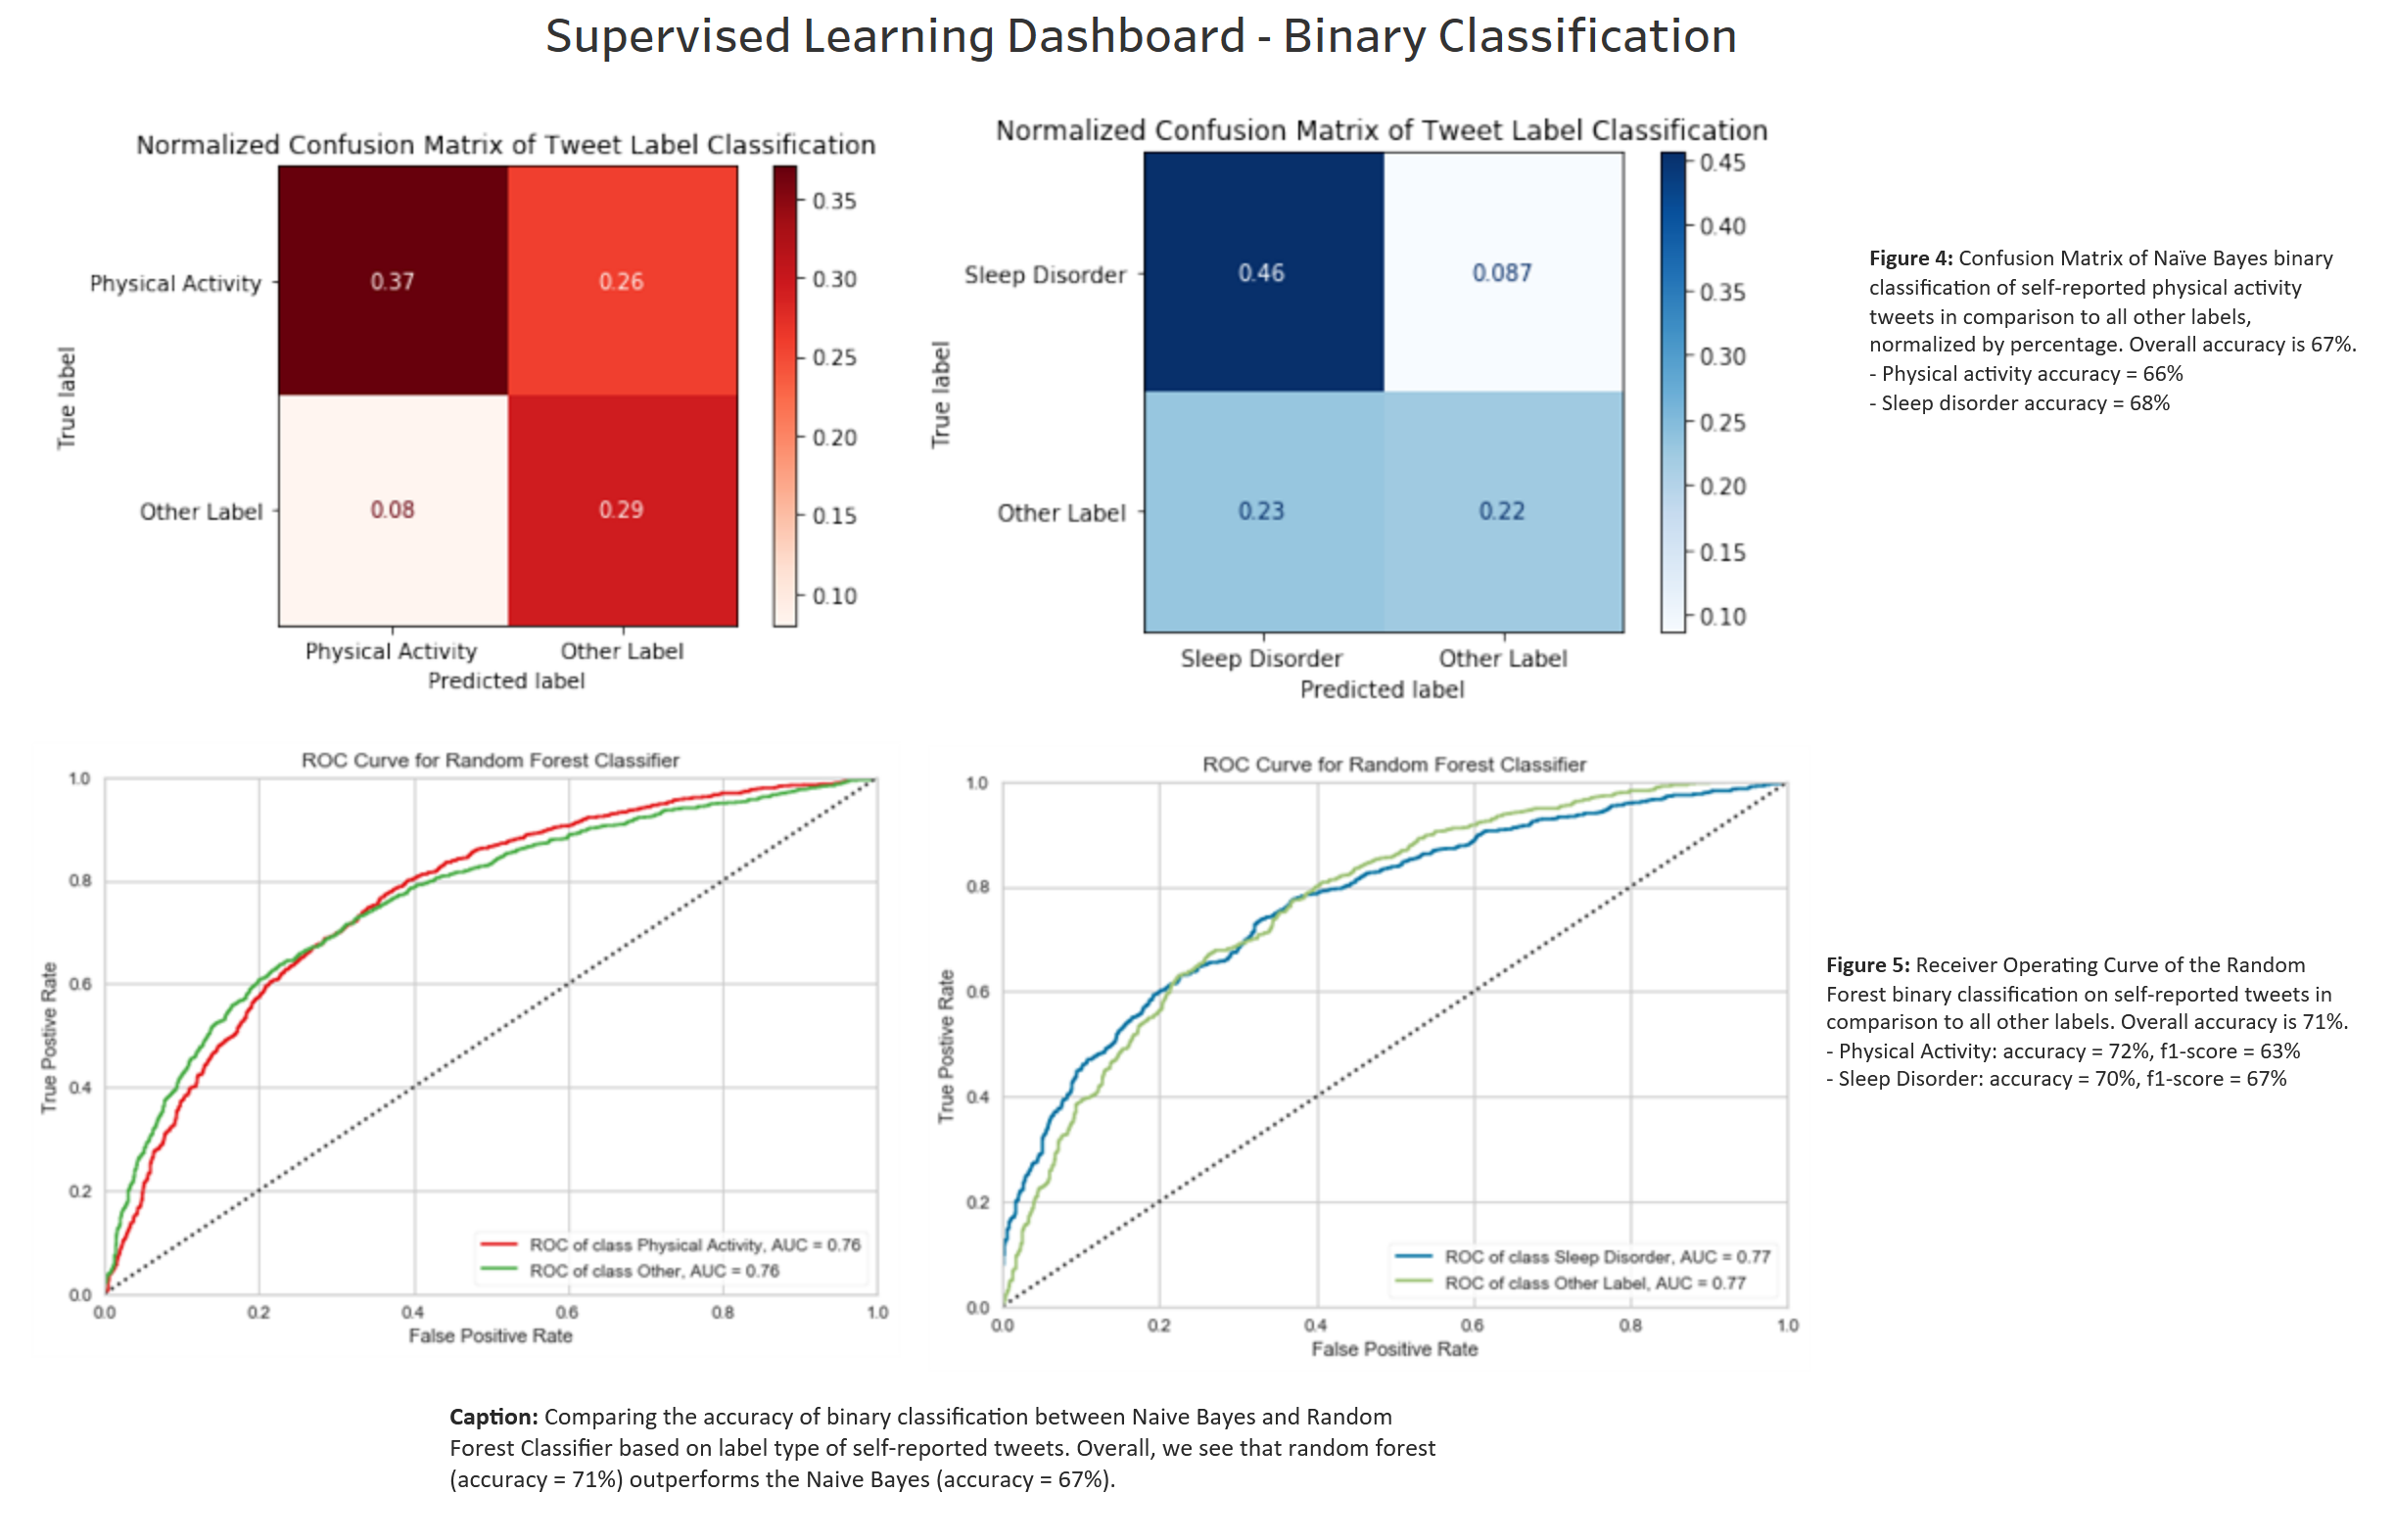

Layout of this report page (visuals, bound fields, positions):
{"tool":"tableau","page":{"name":"Supervised Learning Dashboard","canvas":[1300,800],"ordinal":9},"visuals":[{"type":"title","box":[8,8,1284,41]},{"type":"image","param":"Image/NaiveBayes Phys2.png","box":[90,57,432,330]},{"type":"image","param":"Image/Naive Bayes Sleep2.png","box":[536,63,442,316]},{"type":"text","box":[1019,65,257,232]},{"type":"image","param":"Image/ROC Sleep2.png","box":[541,388,451,328]},{"type":"image","param":"Image/ROC Physical Activity2.png","box":[83,390,444,407]},{"type":"text","box":[997,409,282,250]},{"type":"text","box":[294,721,522,60]}]}

Visuals, with their boxes on the page's 1300x800 design canvas (x1, y1, x2, y2). These are canvas units, not pixel positions in the 2395x1540 screenshot, which may show the page scaled, cropped or inside an application window:
title: rect(8, 8, 1292, 49)
image: rect(90, 57, 522, 387)
image: rect(536, 63, 978, 379)
text: rect(1019, 65, 1276, 297)
image: rect(541, 388, 992, 716)
image: rect(83, 390, 527, 797)
text: rect(997, 409, 1279, 659)
text: rect(294, 721, 816, 781)
